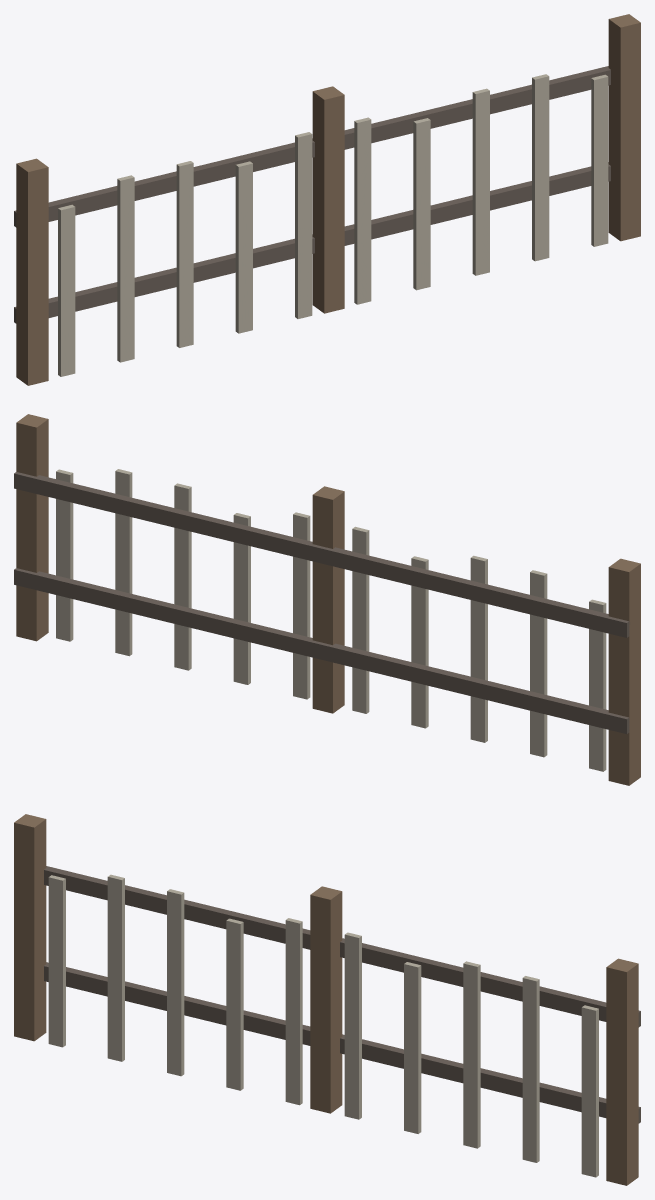
The model's file is picket_fence.glb.
The picture shows the model from 3 angles, top to bottom: view 1: azimuth 30°, elevation 25°; view 2: azimuth 150°, elevation 25°; view 3: azimuth 330°, elevation 25°; orthographic projection.
Visible parts, largest first — view 1: picket_fence; view 2: picket_fence; view 3: picket_fence.
Part boxes in pixels (left/top/right/bottom): picket_fence: left=14, top=14, right=640, bottom=385; picket_fence: left=14, top=414, right=640, bottom=785; picket_fence: left=14, top=814, right=640, bottom=1185.
Size of the model in its own units: 3 by 1 by 0.12.
